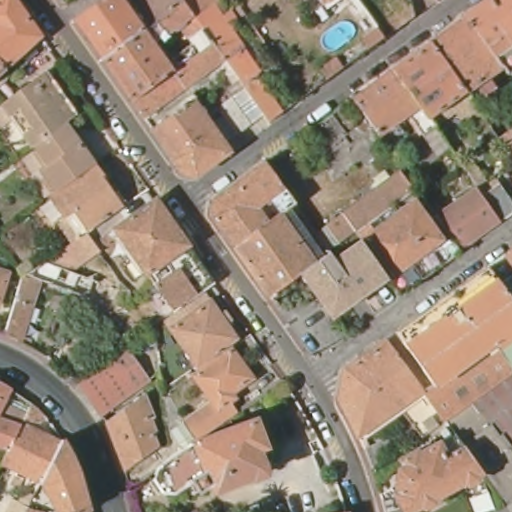pool: (317, 20, 357, 50)
